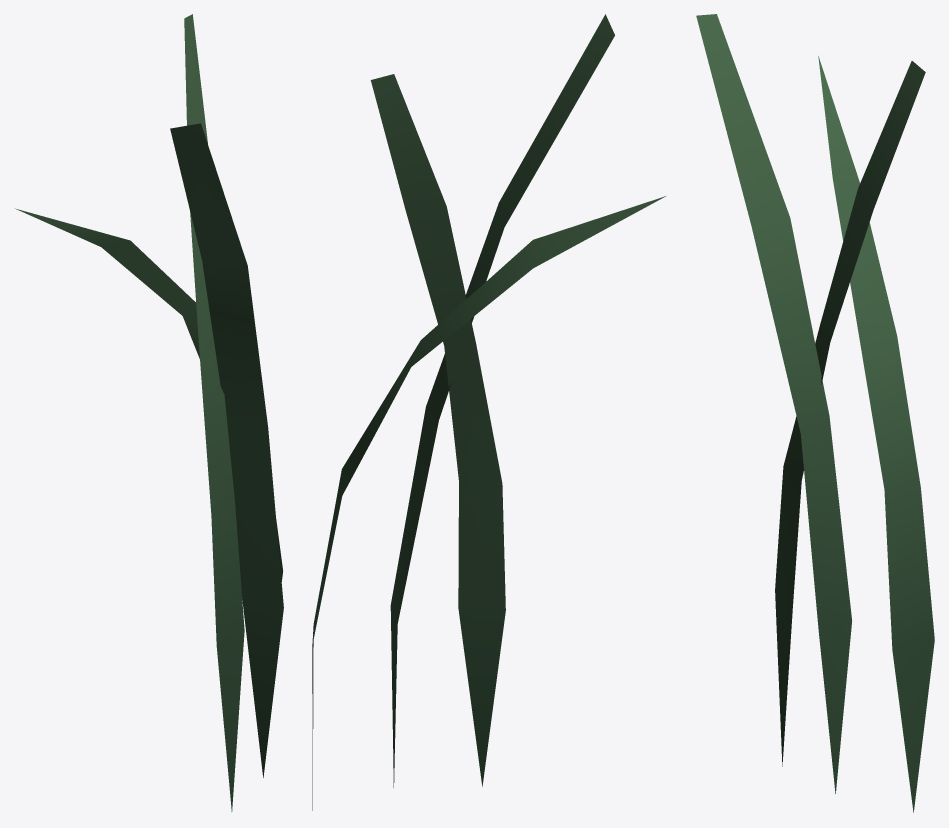
Rendered from trees-grasses-tall-grass_v7.glb.
The picture shows the model from 3 angles, left to right: view 1: azimuth 30°, elevation 25°; view 2: azimuth 150°, elevation 25°; view 3: azimuth 270°, elevation 25°; orthographic projection. The views are drawn at different scales.
Parts seen in each view (by area): view 1: Tall Grass_v7; view 2: Tall Grass_v7; view 3: Tall Grass_v7.
Part boxes in pixels (x1,y1,x2,y2): Tall Grass_v7: [15, 14, 283, 811]; Tall Grass_v7: [312, 14, 665, 810]; Tall Grass_v7: [696, 14, 934, 812].
Size of the model in its own units: 0.2169 by 0.5 by 0.1509.
